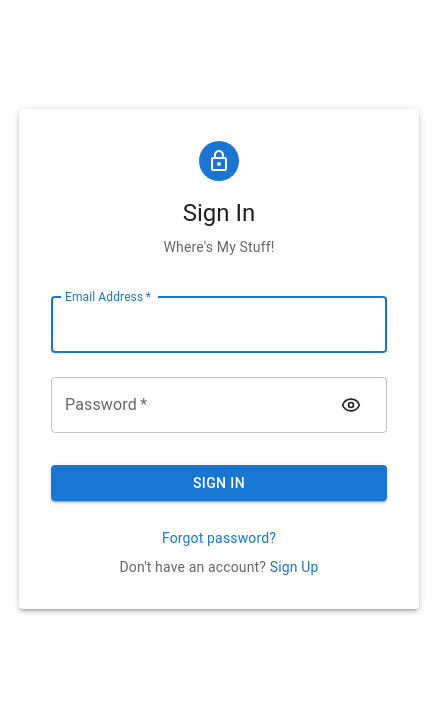
Test: Preservation Property Tests: Authentication Flow Behavior › should initiate password reset flow with verification code
Type "reset@example.com" into the field labelled "Email Address *".
click(219, 325); type("reset@example.com")  # box [51,297,387,353]
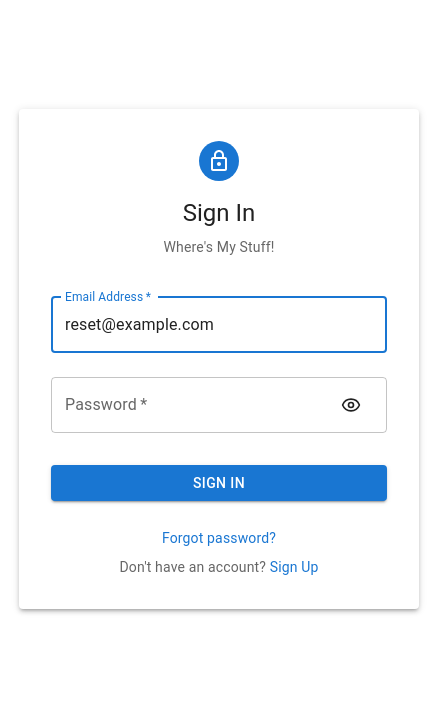
Type "OldPassword123!" into the password field labelled "Password *".
click(190, 405); type("OldPassword123!")  # box [51,377,329,433]
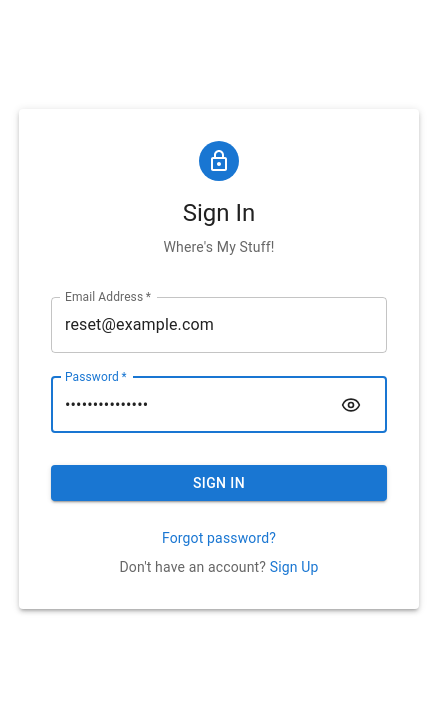
Submit form
Click the button "Sign In".
click(219, 483)  # box [51,465,387,502]
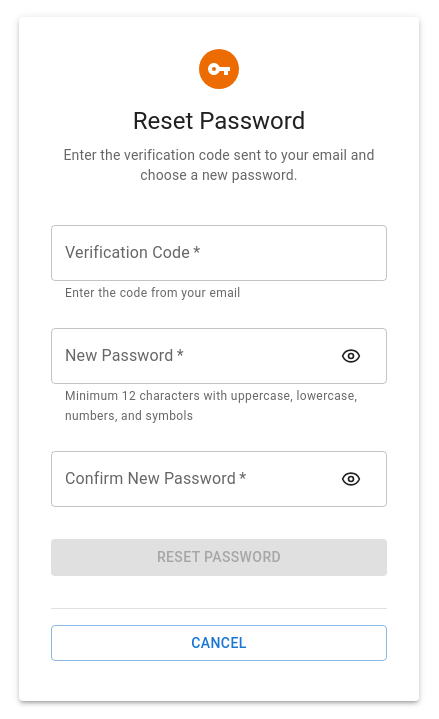
Now the heading "Reset Password" is shown, box [133,105,305,137]
Now the field labelled "Verification Code *" is shown, box [51,225,387,281]
